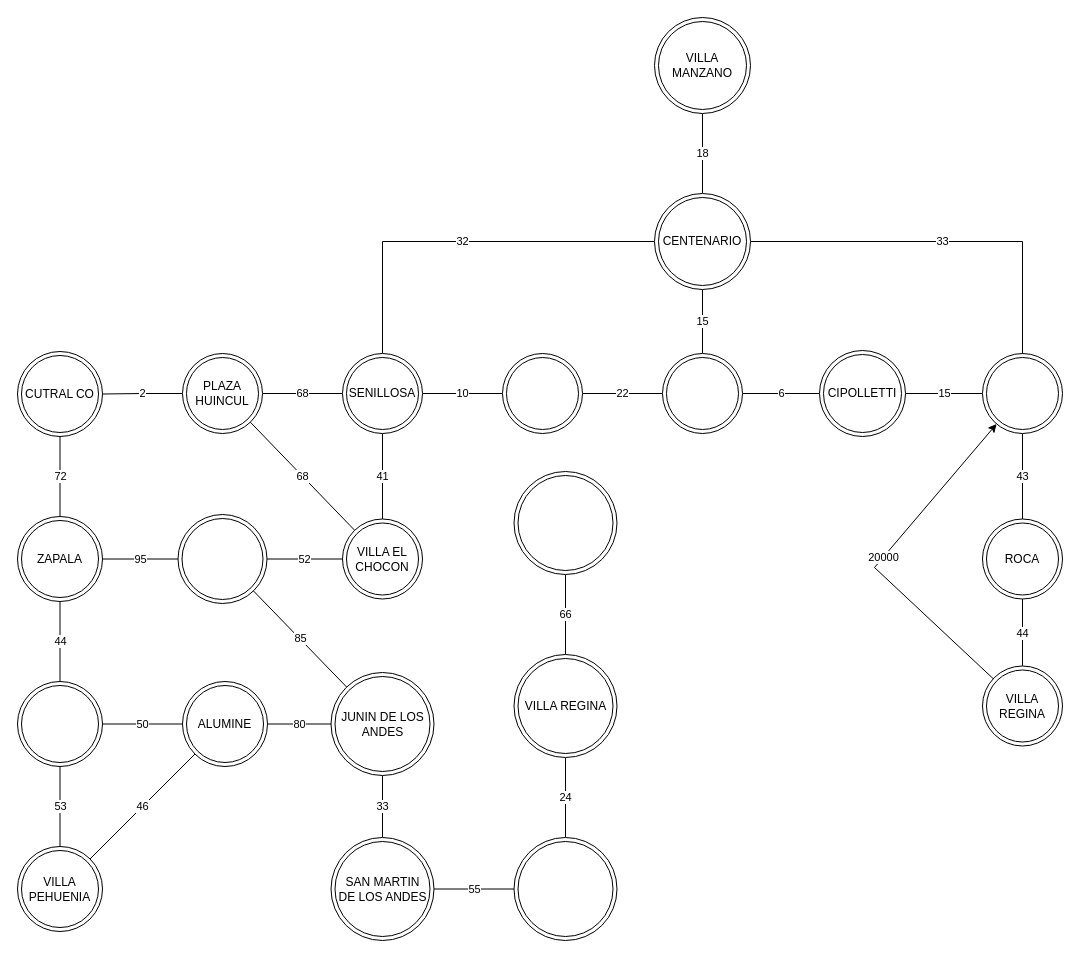
This 1080x958 diagram has some shape labels left out. Each missing label, with the box of its shape:
ALLEN: (982, 352, 1062, 434)
CHINA MUERTA: (502, 352, 582, 434)
NEUQUEN: (662, 352, 742, 434)
PIEDRA DEL AGUILA: (177, 514, 267, 604)
PRIMEROS PINOS: (16, 680, 102, 766)
VILLA MASCARDI: (513, 470, 617, 574)
VILLA TRAFUL: (513, 836, 617, 940)
